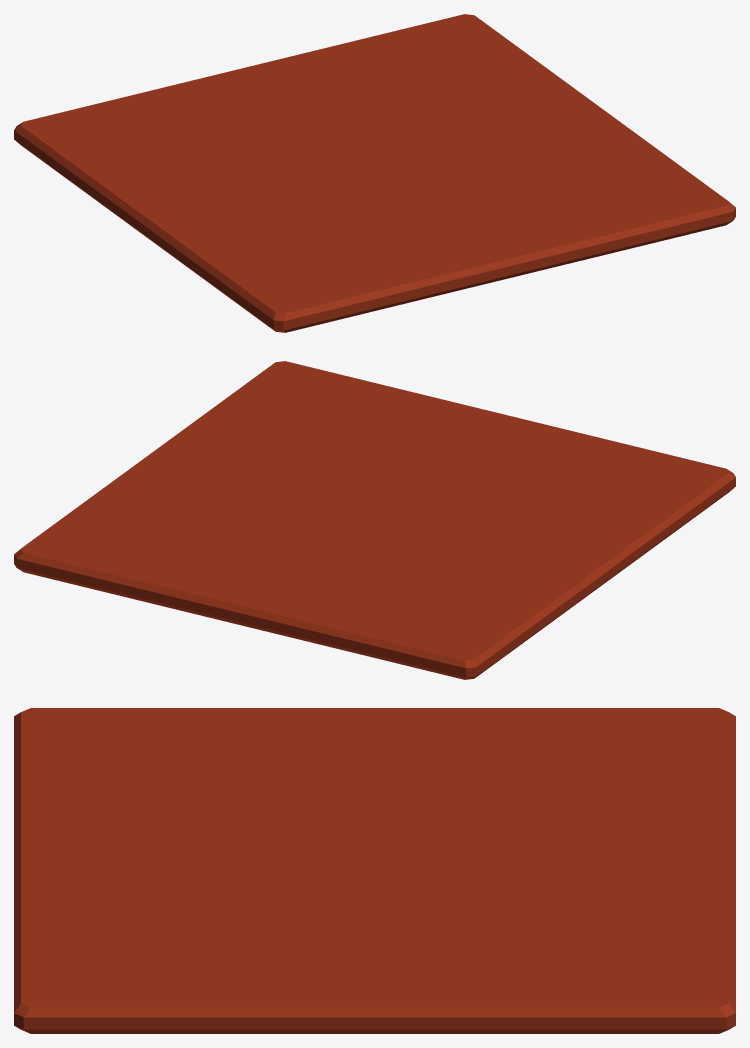
The picture shows the model from 3 angles, top to bottom: view 1: azimuth 30°, elevation 25°; view 2: azimuth 150°, elevation 25°; view 3: azimuth 270°, elevation 25°; orthographic projection. The views are drawn at different scales.
Visible parts, largest first — view 1: Sp_Mat_2; view 2: Sp_Mat_2; view 3: Sp_Mat_2.
Part boxes in pixels (x1=…): Sp_Mat_2: x1=14, y1=14, x2=735, y2=332; Sp_Mat_2: x1=14, y1=361, x2=735, y2=679; Sp_Mat_2: x1=14, y1=708, x2=735, y2=1033.
Bounding box in the file's own units: 100 × 4.05 × 100.
Materials: 1 (1 with a texture image).
